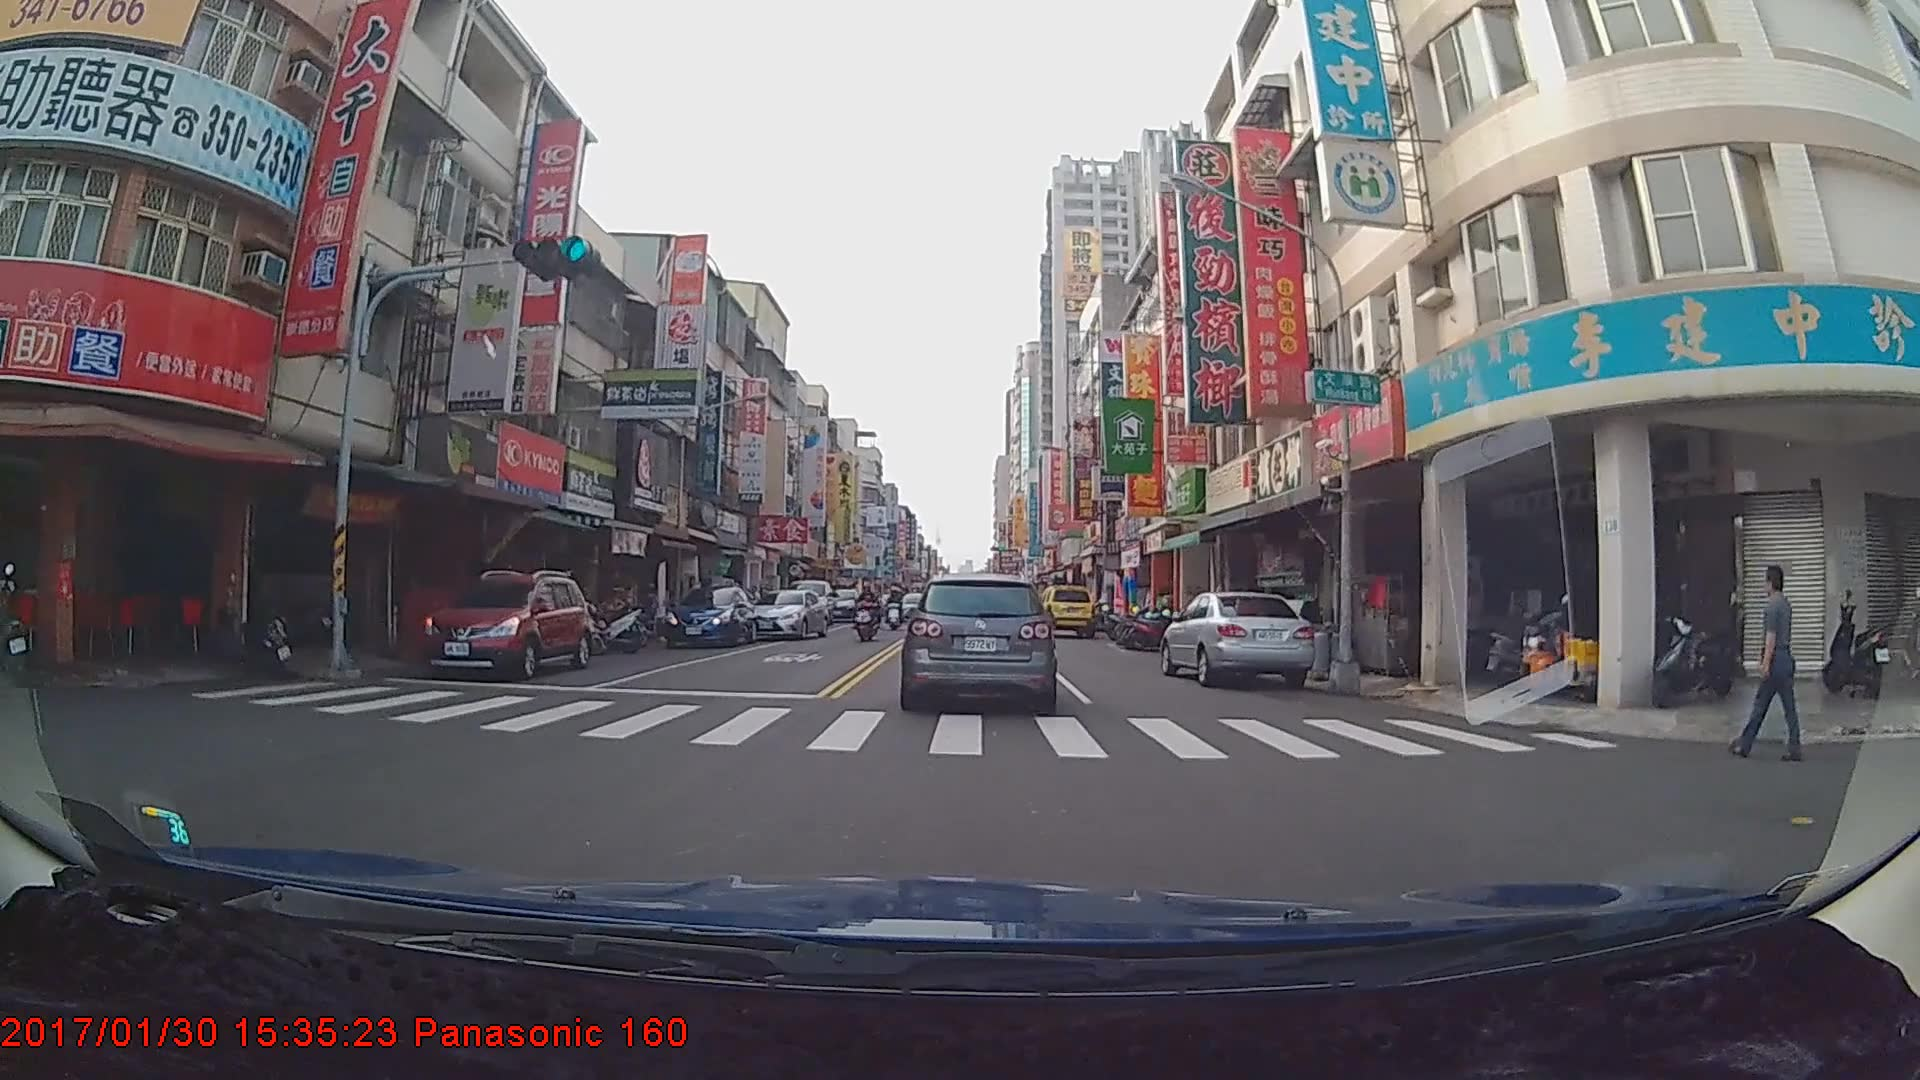pedestrian: (1730, 560, 1810, 768)
rider: (860, 578, 887, 639)
vehicle: (898, 573, 1055, 710), (421, 563, 592, 678), (1161, 590, 1318, 688), (661, 583, 757, 646), (743, 587, 829, 638), (1039, 583, 1095, 634)
